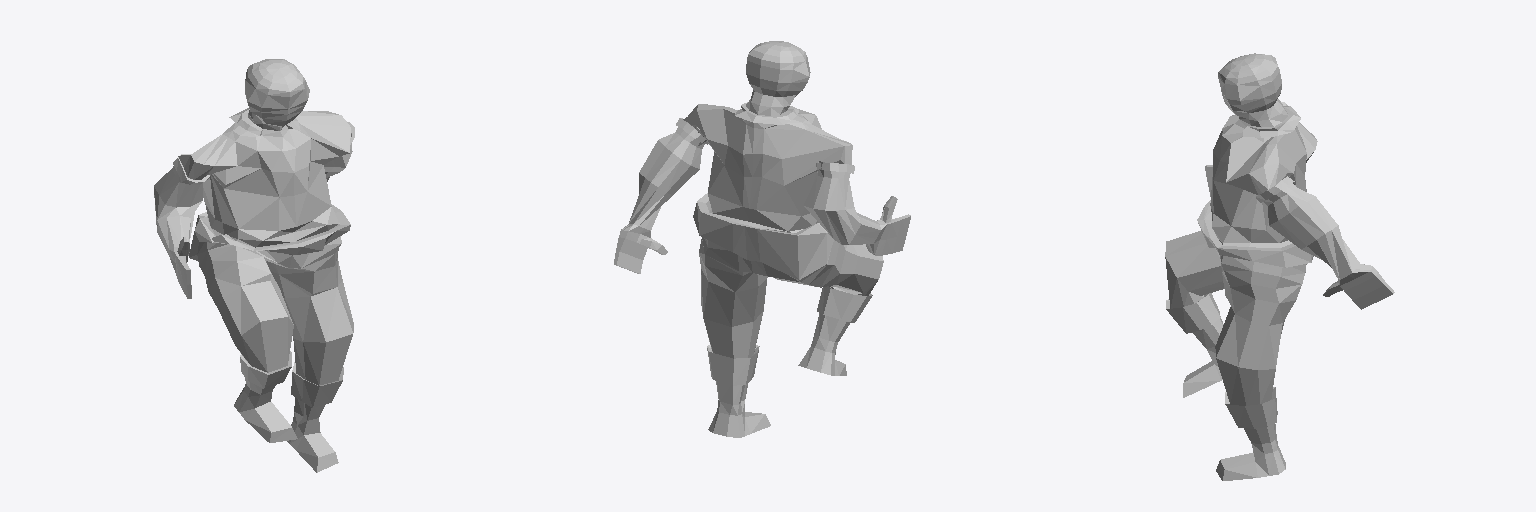
Rendered from run_1.obj.
The picture shows the model from 3 angles: view 1: azimuth 30°, elevation 25°; view 2: azimuth 150°, elevation 25°; view 3: azimuth 270°, elevation 25°; orthographic projection.
Parts seen in each view (by area): view 1: Default_Body_Cube; view 2: Default_Body_Cube; view 3: Default_Body_Cube.
Boxes of the visible parts, x1,y1,x2,y2 form: Default_Body_Cube: [154, 59, 354, 472]; Default_Body_Cube: [614, 41, 910, 437]; Default_Body_Cube: [1165, 53, 1394, 480].
Bounding box in the file's own units: 4.38 × 7.87 × 4.08.